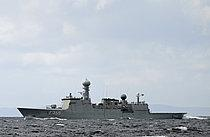MIL_Ship: (17, 76, 187, 121)
